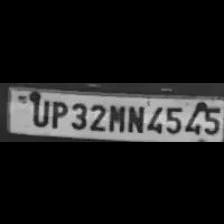2: (88, 98, 106, 130)
3: (67, 97, 87, 128)
4: (144, 101, 164, 133), (184, 100, 202, 134)
5: (198, 100, 220, 136), (161, 102, 181, 134)
M: (105, 100, 125, 132)
N: (124, 102, 144, 132)
P: (47, 98, 66, 128)
U: (28, 96, 48, 126)
